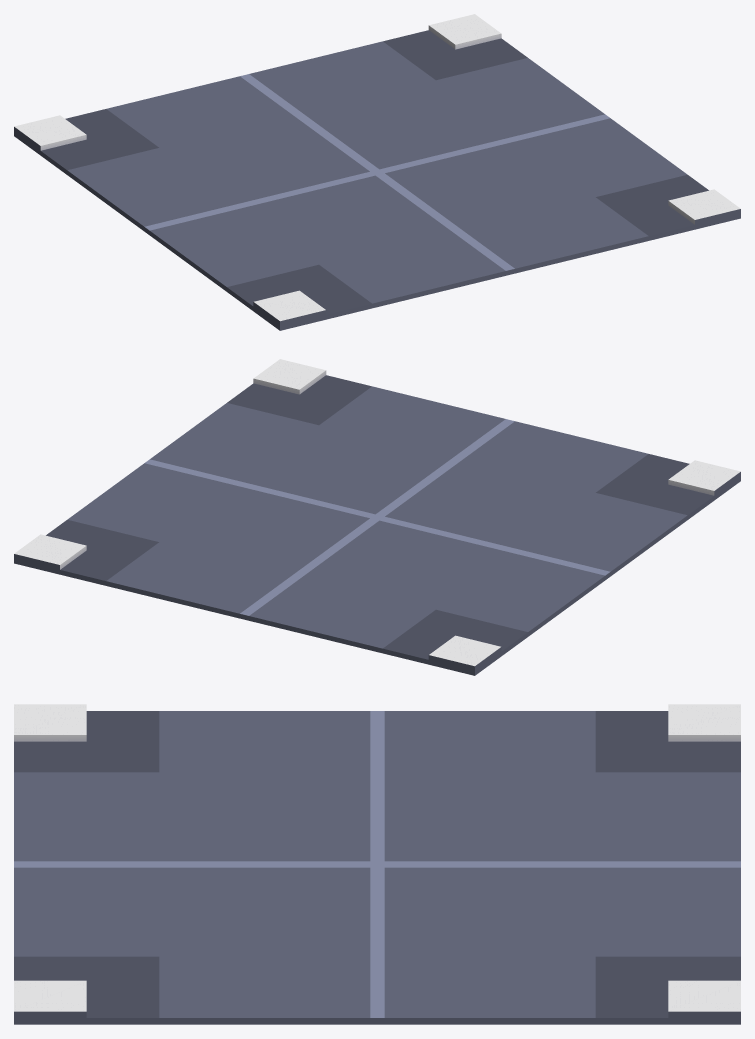
Rendered from road-crossroad-line.glb.
The picture shows the model from 3 angles, top to bottom: view 1: azimuth 30°, elevation 25°; view 2: azimuth 150°, elevation 25°; view 3: azimuth 270°, elevation 25°; orthographic projection. The views are drawn at different scales.
Visible parts, largest first — view 1: road-crossroad-line; view 2: road-crossroad-line; view 3: road-crossroad-line.
Part boxes in pixels (bbox=[...]): road-crossroad-line: bbox=[14, 14, 740, 330]; road-crossroad-line: bbox=[14, 359, 740, 675]; road-crossroad-line: bbox=[14, 704, 740, 1024].
Size of the model in its own units: 1 by 0.02 by 1.
Materials: 1 (1 with a texture image).
